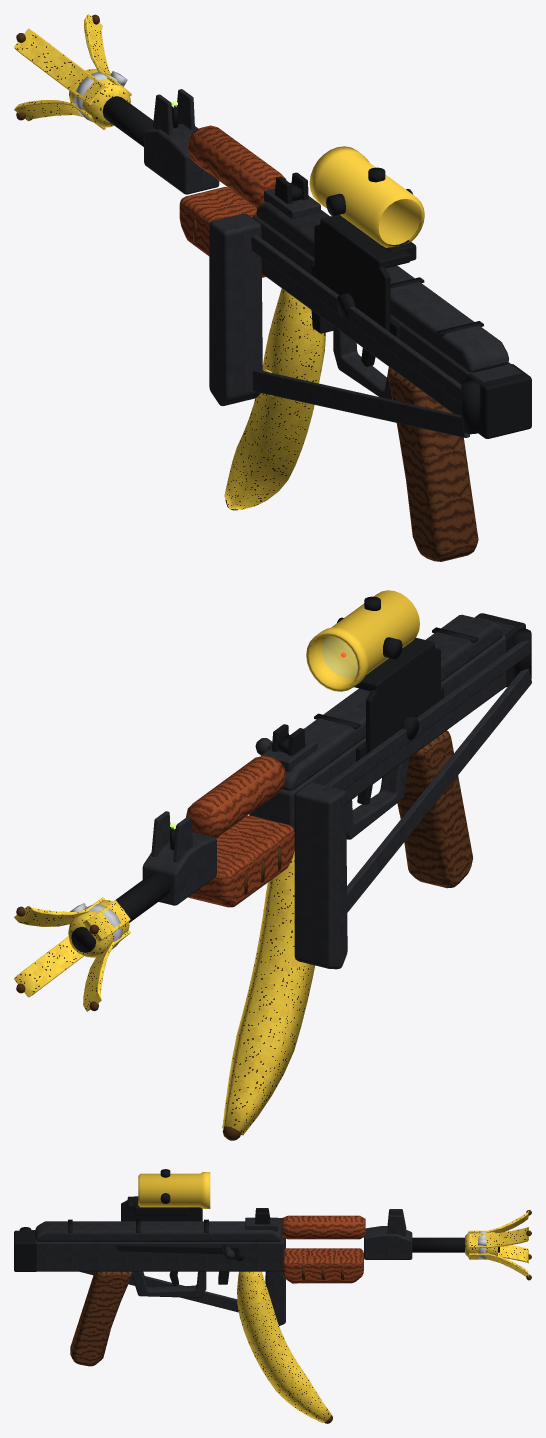
File: w_banana.glb
The picture shows the model from 3 angles, top to bottom: view 1: azimuth 30°, elevation 25°; view 2: azimuth 150°, elevation 25°; view 3: azimuth 270°, elevation 25°; orthographic projection. The views are drawn at different scales.
Visible parts, largest first — view 1: banana_body_wzA, banana_body_wzB, banana_body_wzN; view 2: banana_body_wzA, banana_body_wzB, banana_body_wzN; view 3: banana_body_wzA, banana_body_wzB.
Part boxes in pixels (x1,y1,x2,y2): banana_body_wzA: (144,89,521,561); banana_body_wzB: (14,14,531,510); banana_body_wzN: (74,71,273,396); banana_body_wzA: (142,590,531,969); banana_body_wzB: (14,596,531,1140); banana_body_wzN: (70,636,357,949); banana_body_wzA: (31,1172,412,1366); banana_body_wzB: (14,1169,531,1423).
Bounding box in the file's own units: 0.0927 × 0.315 × 0.5863.
Materials: 14 (5 with a texture image).
